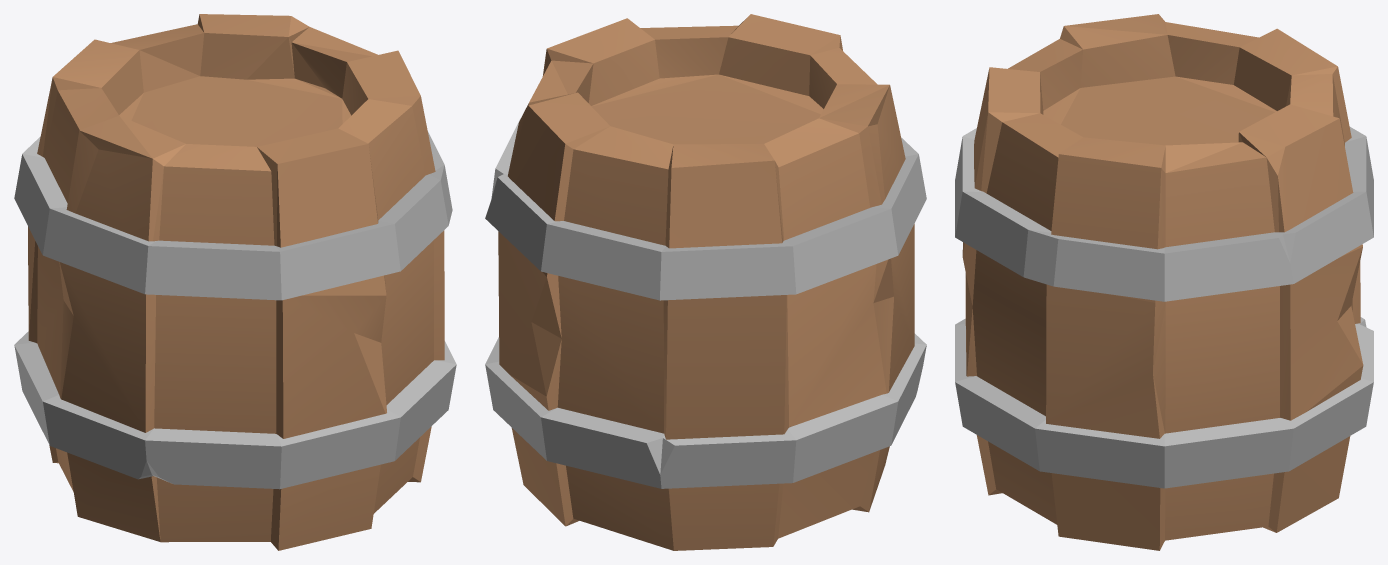
The model's file is barrelShabby.fbx.
The picture shows the model from 3 angles, left to right: view 1: azimuth 30°, elevation 25°; view 2: azimuth 150°, elevation 25°; view 3: azimuth 270°, elevation 25°; orthographic projection.
Parts seen in each view (by area): view 1: barrelShabby; view 2: barrelShabby; view 3: barrelShabby.
Boxes of the visible parts, bbox=[...] form: barrelShabby: bbox=[14, 14, 456, 550]; barrelShabby: bbox=[485, 14, 926, 550]; barrelShabby: bbox=[955, 14, 1373, 550].
Bounding box in the file's own units: 110 × 107 × 105.
Materials: 1 (1 with a texture image).
